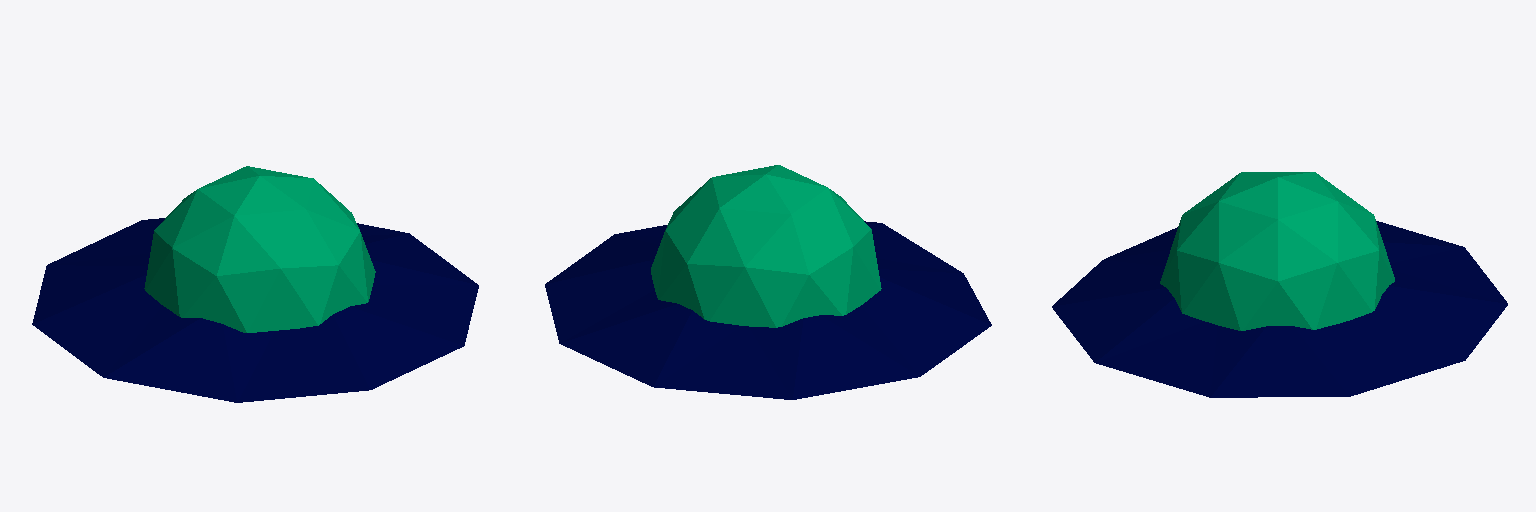
File: ennemi2.obj
The picture shows the model from 3 angles: view 1: azimuth 30°, elevation 25°; view 2: azimuth 150°, elevation 25°; view 3: azimuth 270°, elevation 25°; orthographic projection.
Visible parts, largest first — view 1: Icosphere, Icosphere.001; view 2: Icosphere, Icosphere.001; view 3: Icosphere, Icosphere.001.
Boxes of the visible parts, x1,y1,x2,y2 form: Icosphere: [32, 218, 478, 402]; Icosphere.001: [144, 166, 375, 332]; Icosphere: [545, 221, 991, 399]; Icosphere.001: [651, 165, 881, 327]; Icosphere: [1052, 221, 1507, 397]; Icosphere.001: [1160, 172, 1394, 330].
Size of the model in its own units: 3.66 by 1.49 by 3.85.